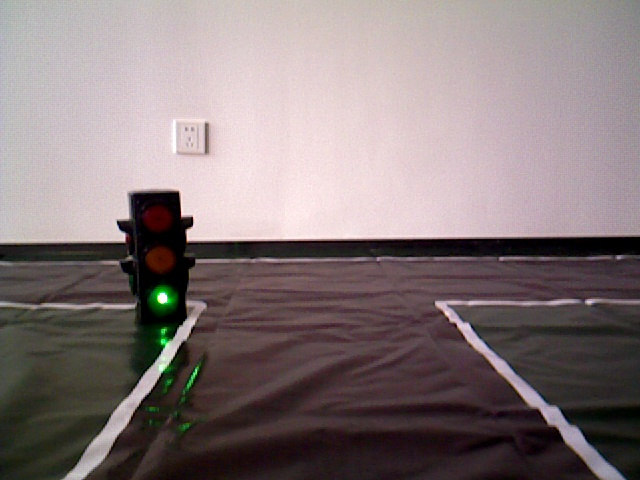green: (129, 197, 186, 317)
